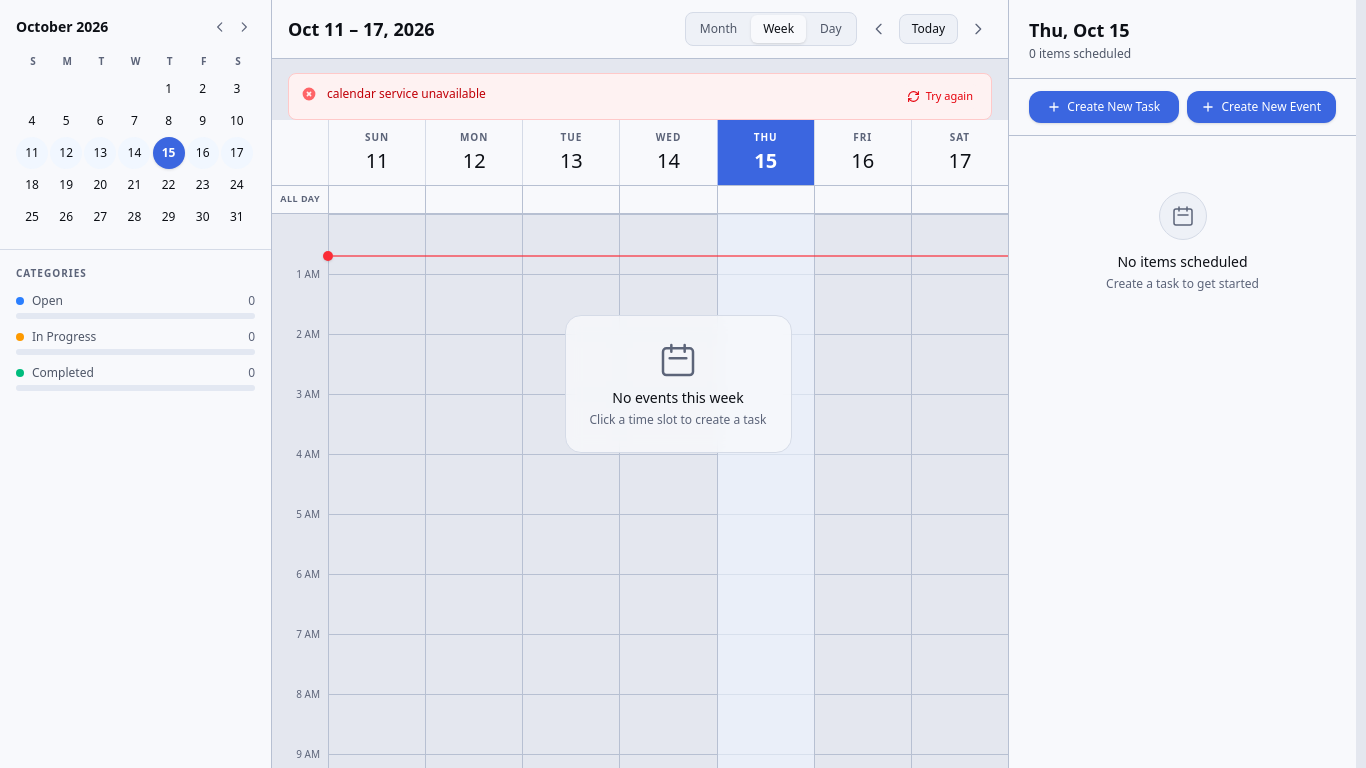
retries the failed calendar range without navigating to another month
Expected: the message shows "calendar service unavailable", top-left (327, 85), bottom-right (486, 102)
Click the button "Try again": (940, 96) top-left (901, 84), bottom-right (979, 108)
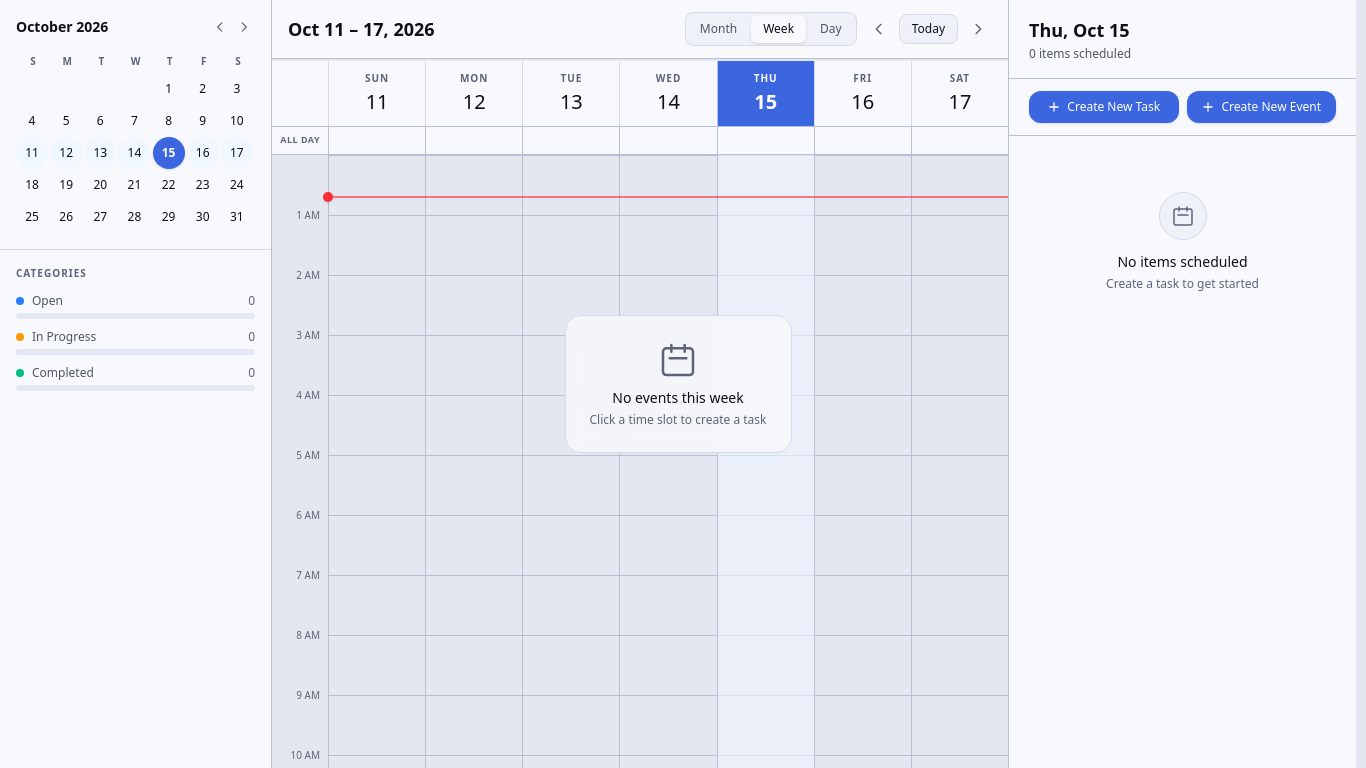
Expected: the message "calendar service unavailable Try again" is gone
